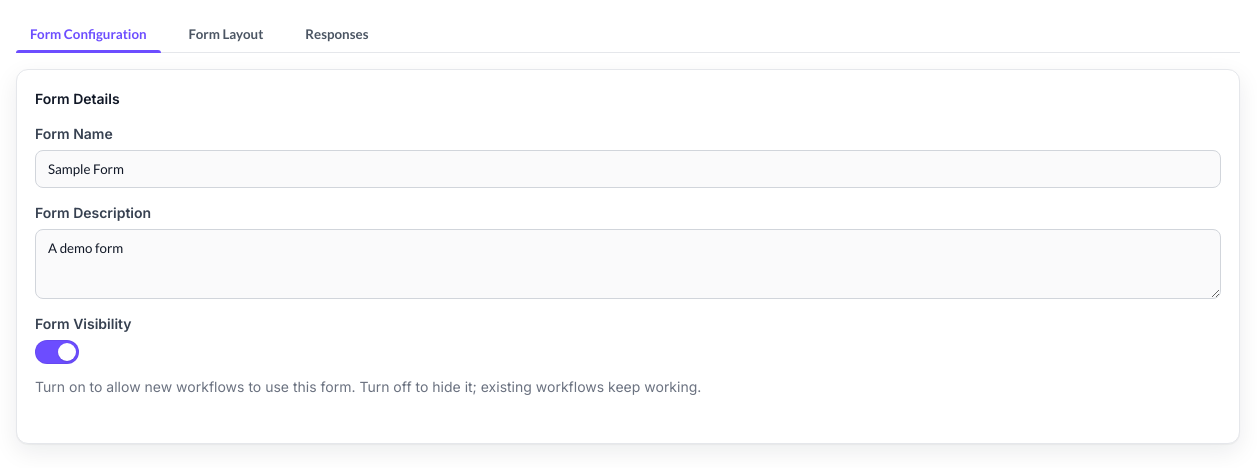
Test: ViewForm page › handles error when fetching responses
expect the text "Form Details" is shown: met, box x1=35 y1=90 x2=120 y2=107
Switch to responses
Click the tab "Responses" at (337, 34), box x1=291 y1=16 x2=382 y2=52
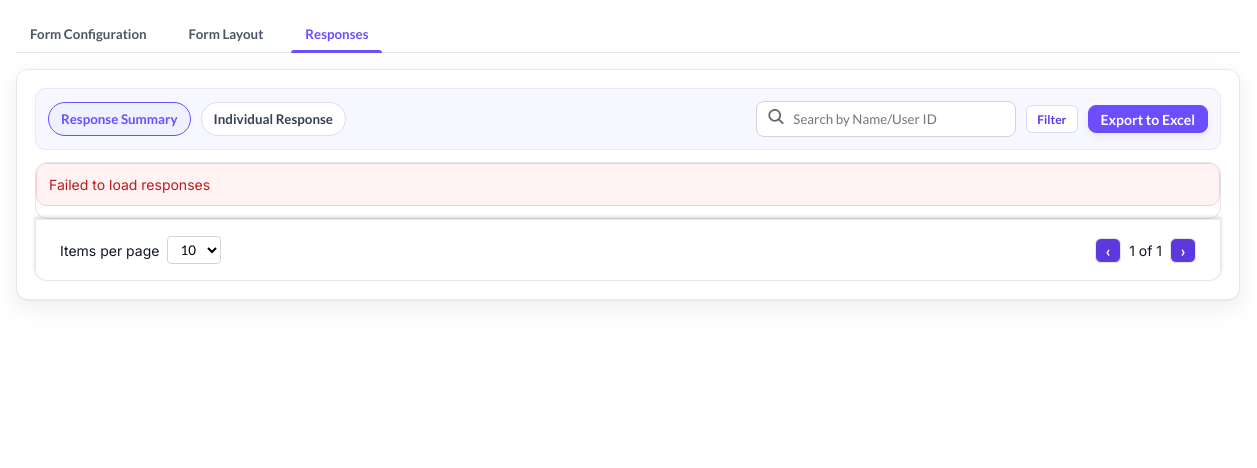
expect the text "Failed to load responses" is shown: met, box x1=36 y1=163 x2=1220 y2=206
